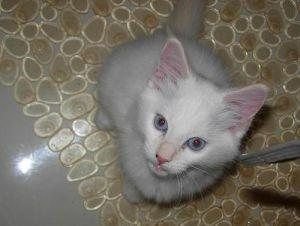siamese: (128, 37, 276, 184)
